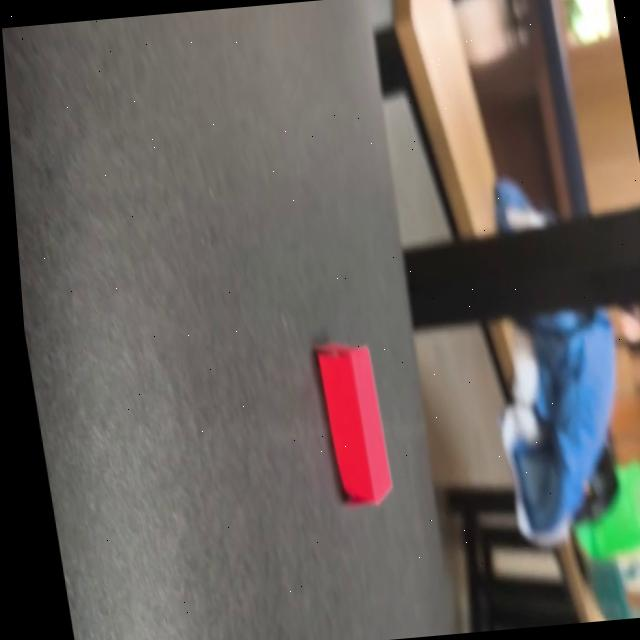red block: (313, 337, 397, 507)
